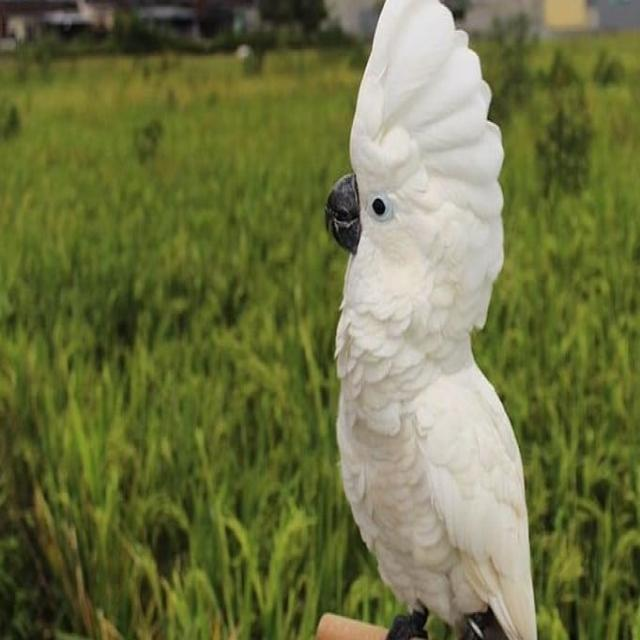Kakatua Putih: (306, 0, 547, 640)
